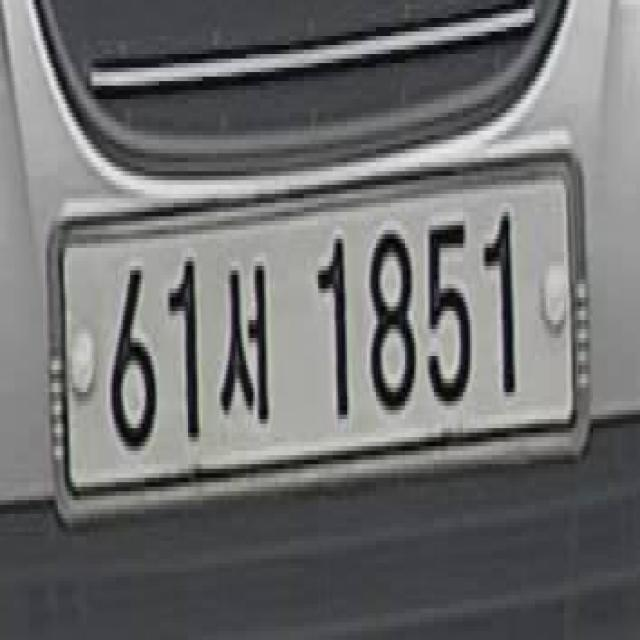1: (478, 203, 528, 410), (311, 222, 359, 427), (163, 253, 207, 441)
5: (425, 211, 473, 412)
6: (102, 257, 158, 457)
8: (363, 222, 421, 419)
license_plate: (35, 122, 605, 566)
seo: (214, 251, 274, 435)
